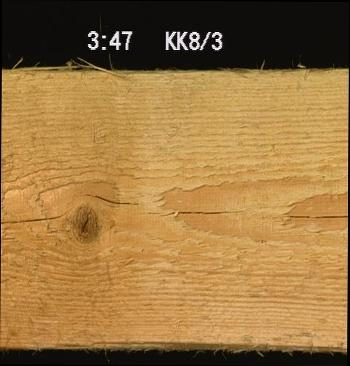sound_knot: (65, 203, 103, 246)
split: (0, 210, 66, 224), (80, 190, 139, 205), (142, 209, 245, 216), (287, 213, 347, 219)
wave: (39, 340, 347, 352)
